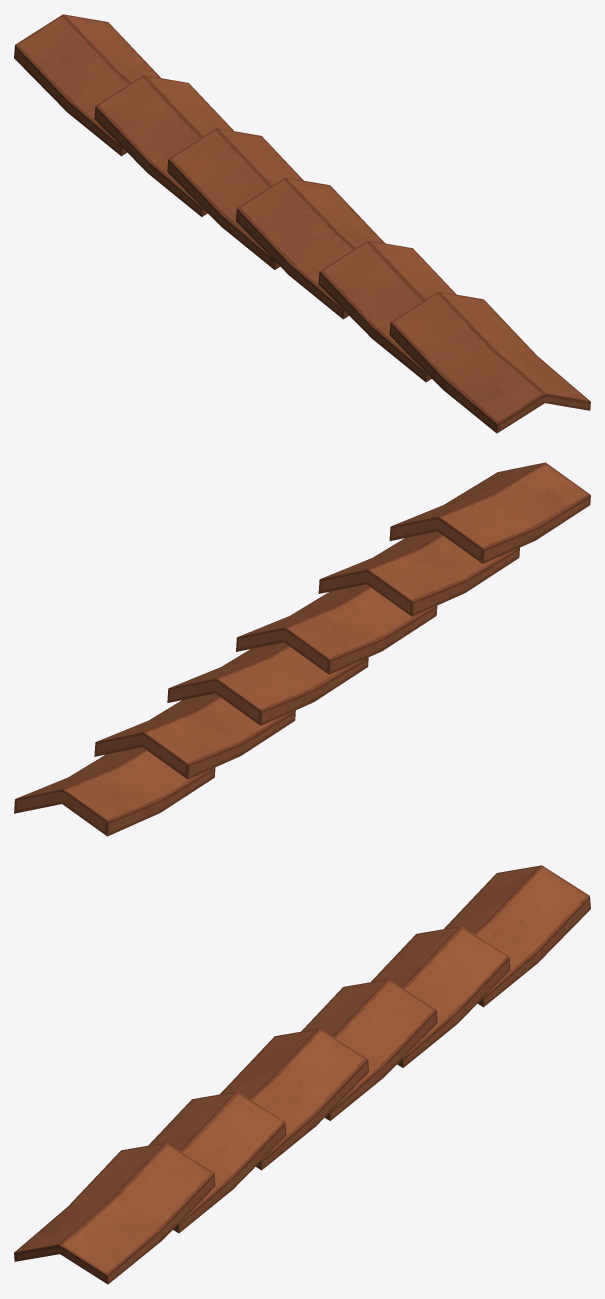
Rendered from SM_building_part_01.glb.
3 views of the same model, one above another, from view 1: azimuth 30°, elevation 25°; view 2: azimuth 150°, elevation 25°; view 3: azimuth 330°, elevation 25° (orthographic).
Parts seen in each view (by area): view 1: SM_building_part_01; view 2: SM_building_part_01; view 3: SM_building_part_01.
Boxes of the visible parts, x1,y1,x2,y2 form: SM_building_part_01: (14,14,590,433); SM_building_part_01: (14,462,590,836); SM_building_part_01: (14,865,590,1284).
Size of the model in its own units: 0.7447 by 0.4344 by 6.7.
Materials: 1 (1 with a texture image).
